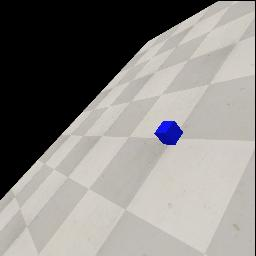box: (154, 121, 183, 145)
